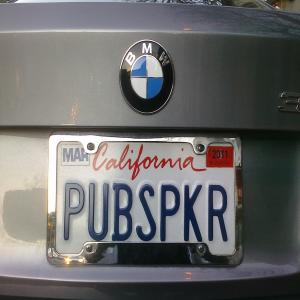Vehicle-registration-plate: (54, 139, 246, 272)
